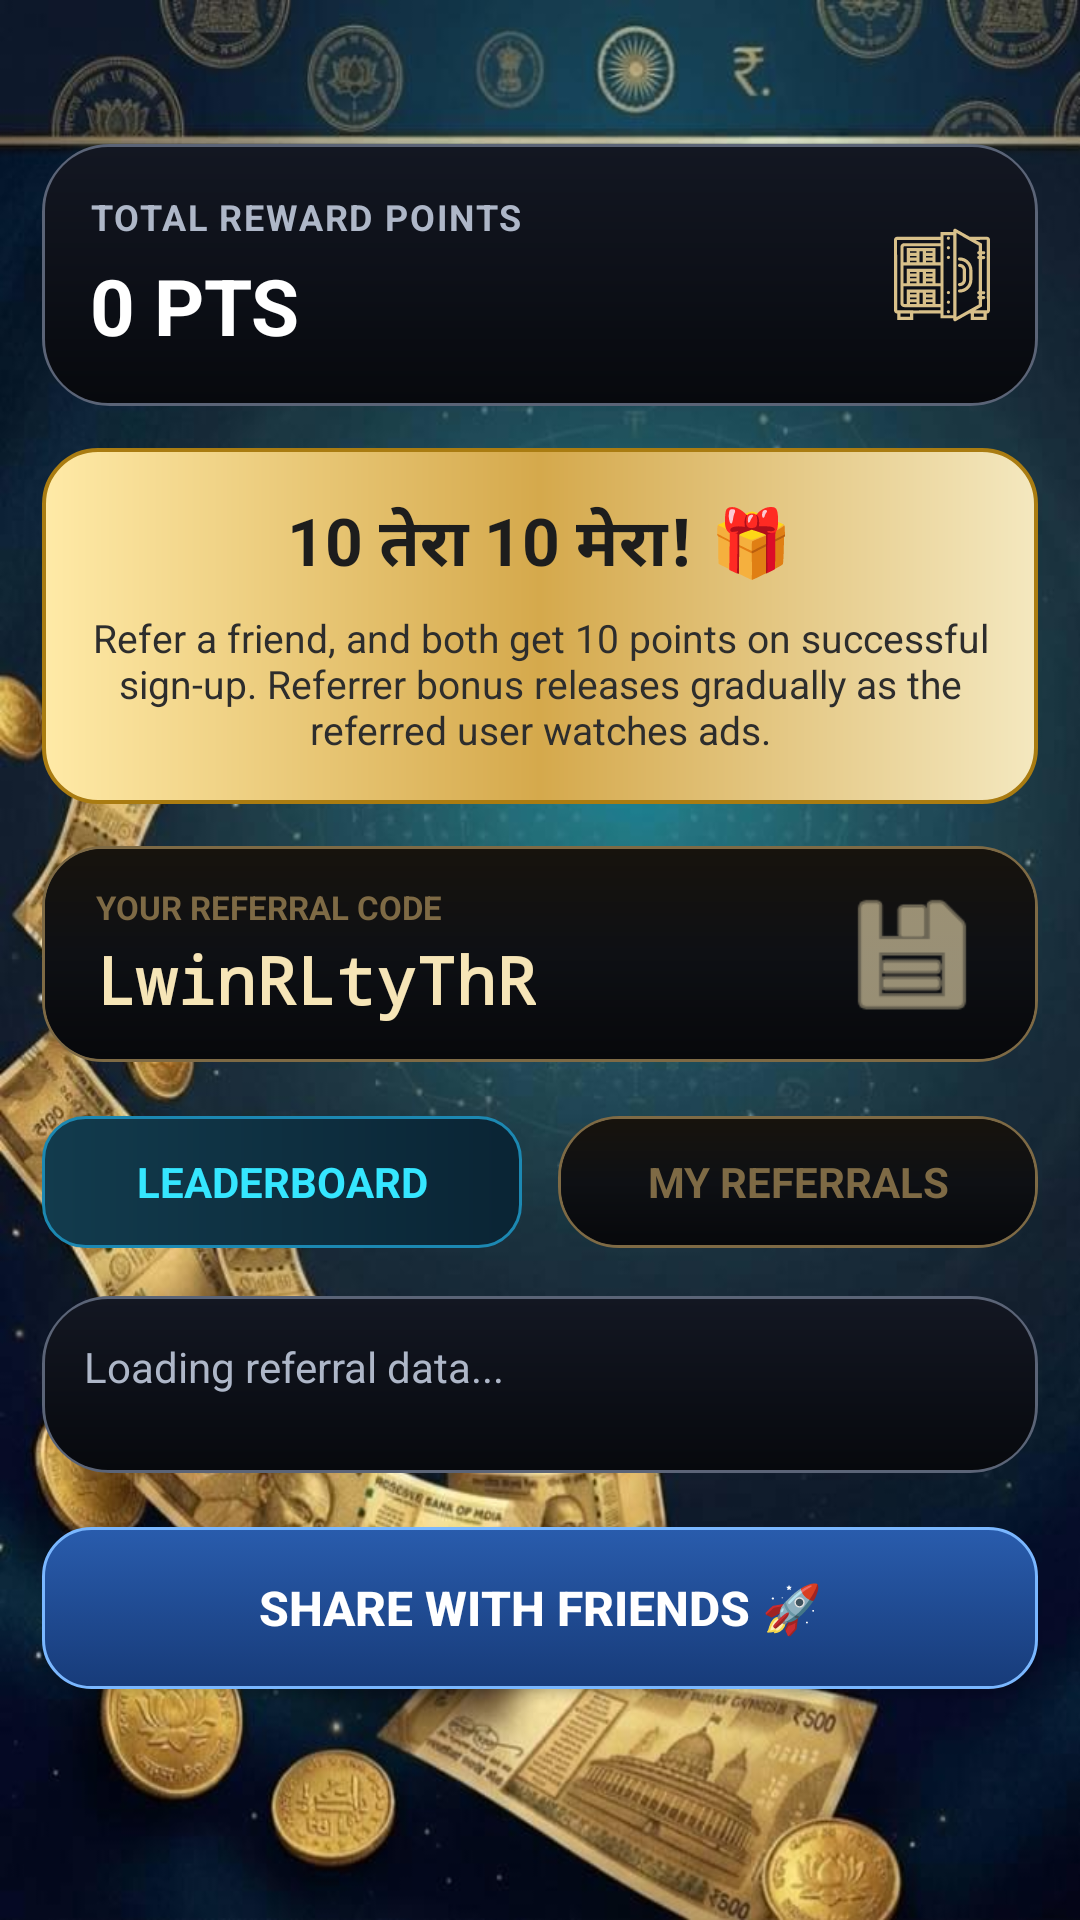

Named icons in this screenshot (1080px x 1920px) and their centers, point (x, y):
wallet point: point (942, 275)
